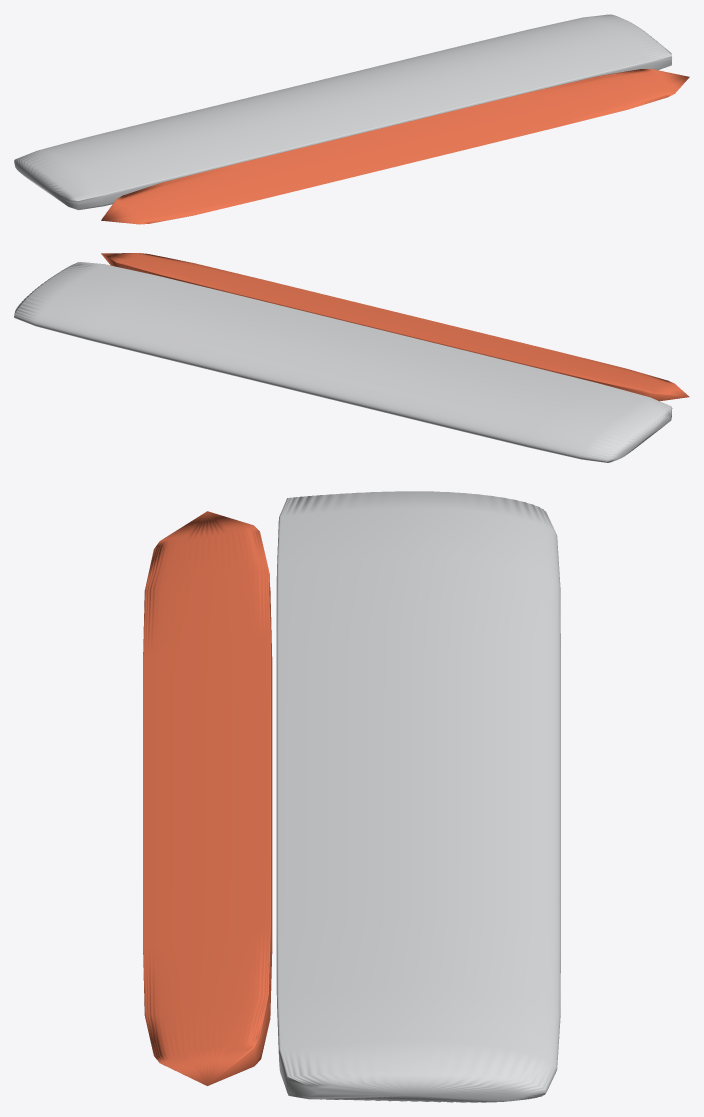
The model's file is canard.glb.
The picture shows the model from 3 angles, top to bottom: view 1: azimuth 30°, elevation 25°; view 2: azimuth 150°, elevation 25°; view 3: azimuth 270°, elevation 25°; orthographic projection. The views are drawn at different scales.
Parts seen in each view (by area): view 1: CanardMain, CanardControl; view 2: CanardMain, CanardControl; view 3: CanardMain, CanardControl.
Boxes of the visible parts, bbox=[...] form: CanardMain: bbox=[14, 14, 671, 210]; CanardControl: bbox=[101, 69, 689, 224]; CanardMain: bbox=[14, 262, 672, 462]; CanardControl: bbox=[101, 253, 689, 401]; CanardMain: bbox=[276, 491, 560, 1102]; CanardControl: bbox=[143, 511, 272, 1085].
Size of the model in its own units: 1.84 by 0.0628 by 0.5495.
